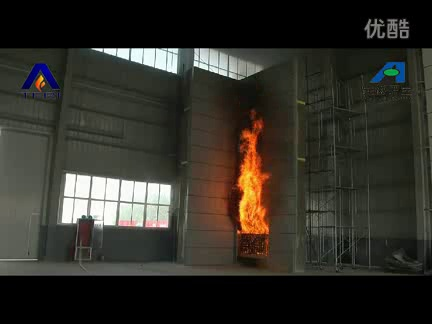fire: (235, 111, 271, 234)
